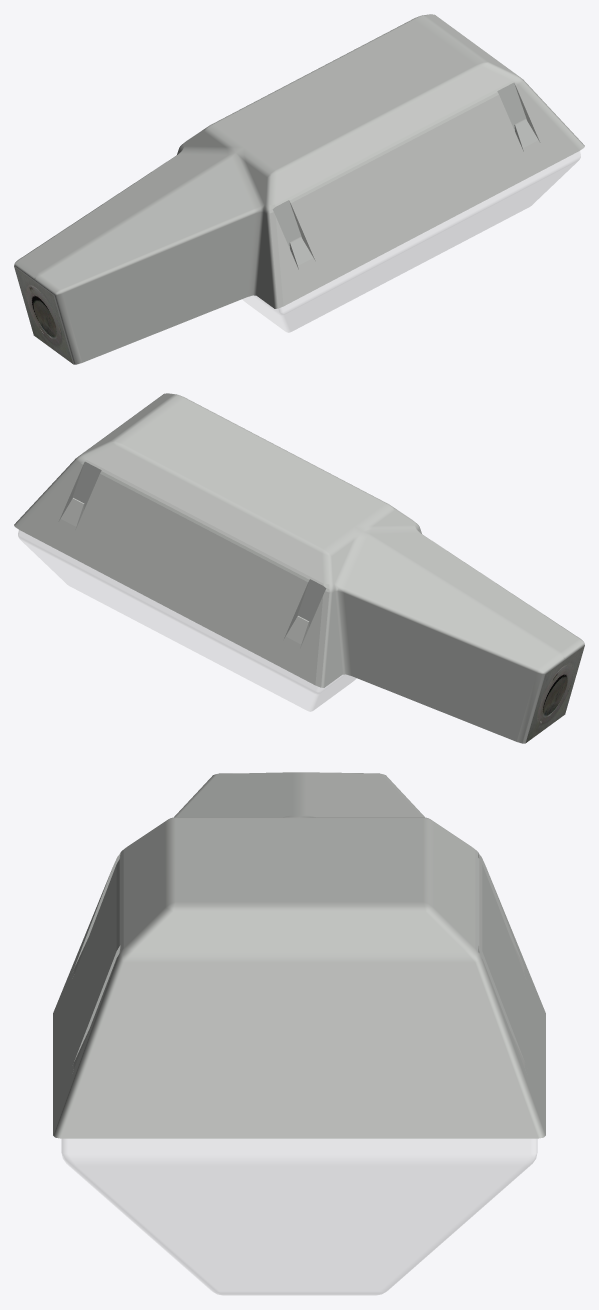
The model's file is Grosser_Klassiker.glb.
The picture shows the model from 3 angles, top to bottom: view 1: azimuth 30°, elevation 25°; view 2: azimuth 150°, elevation 25°; view 3: azimuth 270°, elevation 25°; orthographic projection. The views are drawn at different scales.
Parts seen in each view (by area): view 1: Cube.002, Cube.001; view 2: Cube.002, Cube.001; view 3: Cube.002, Cube.001.
Boxes of the visible parts, x1=… form: Cube.002: x1=14, y1=14, x2=584, y2=364; Cube.001: x1=242, y1=151, x2=580, y2=332; Cube.002: x1=14, y1=393, x2=584, y2=743; Cube.001: x1=18, y1=530, x2=356, y2=711; Cube.002: x1=53, y1=772, x2=545, y2=1138; Cube.001: x1=61, y1=1139, x2=537, y2=1295.
Bounding box in the file's own units: 0.8517 × 0.3873 × 0.3699.
3 materials, 2 textured.
